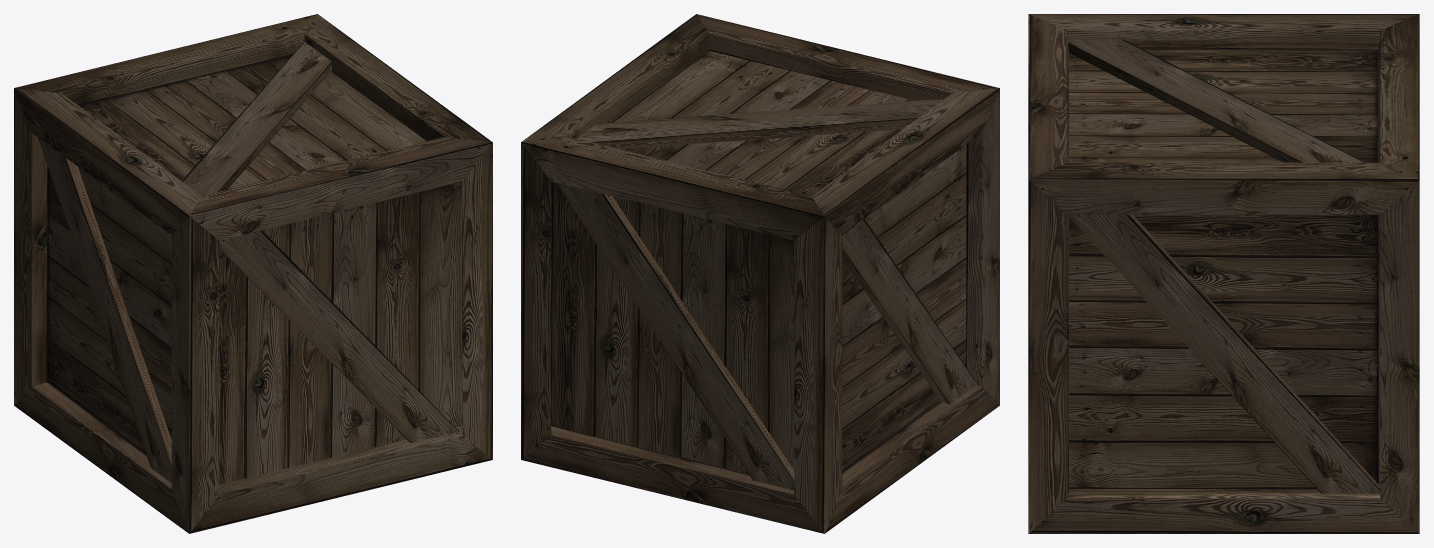
The model's file is woodencrate.glb.
3 views of the same model, side by side, from view 1: azimuth 30°, elevation 25°; view 2: azimuth 150°, elevation 25°; view 3: azimuth 270°, elevation 25° (orthographic). The views are drawn at different scales.
Visible parts, largest first — view 1: Object_2; view 2: Object_2; view 3: Object_2.
Boxes of the visible parts, box(x1,y1,x2,y2) form: Object_2: box(14, 14, 492, 533); Object_2: box(521, 14, 999, 533); Object_2: box(1028, 14, 1419, 533).
Bounding box in the file's own units: 2 × 2 × 2.
1 material, 1 textured.
